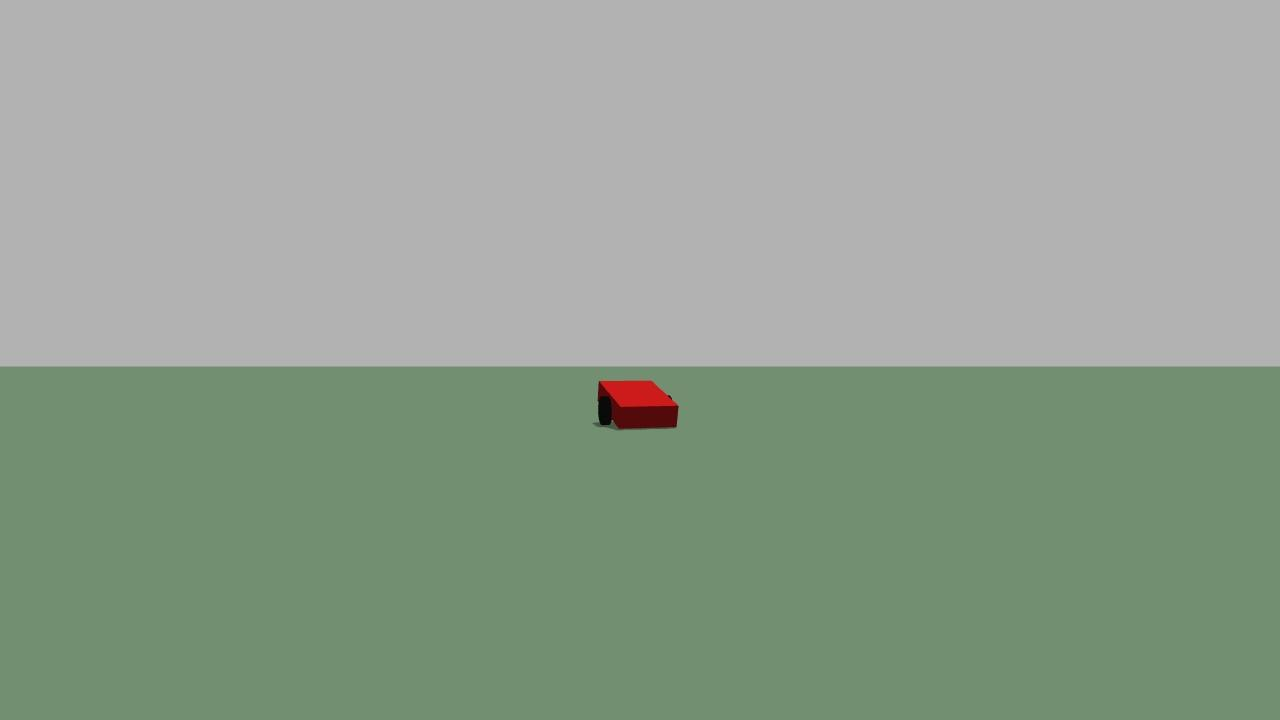ground_vehicle: (585, 366, 687, 445)
